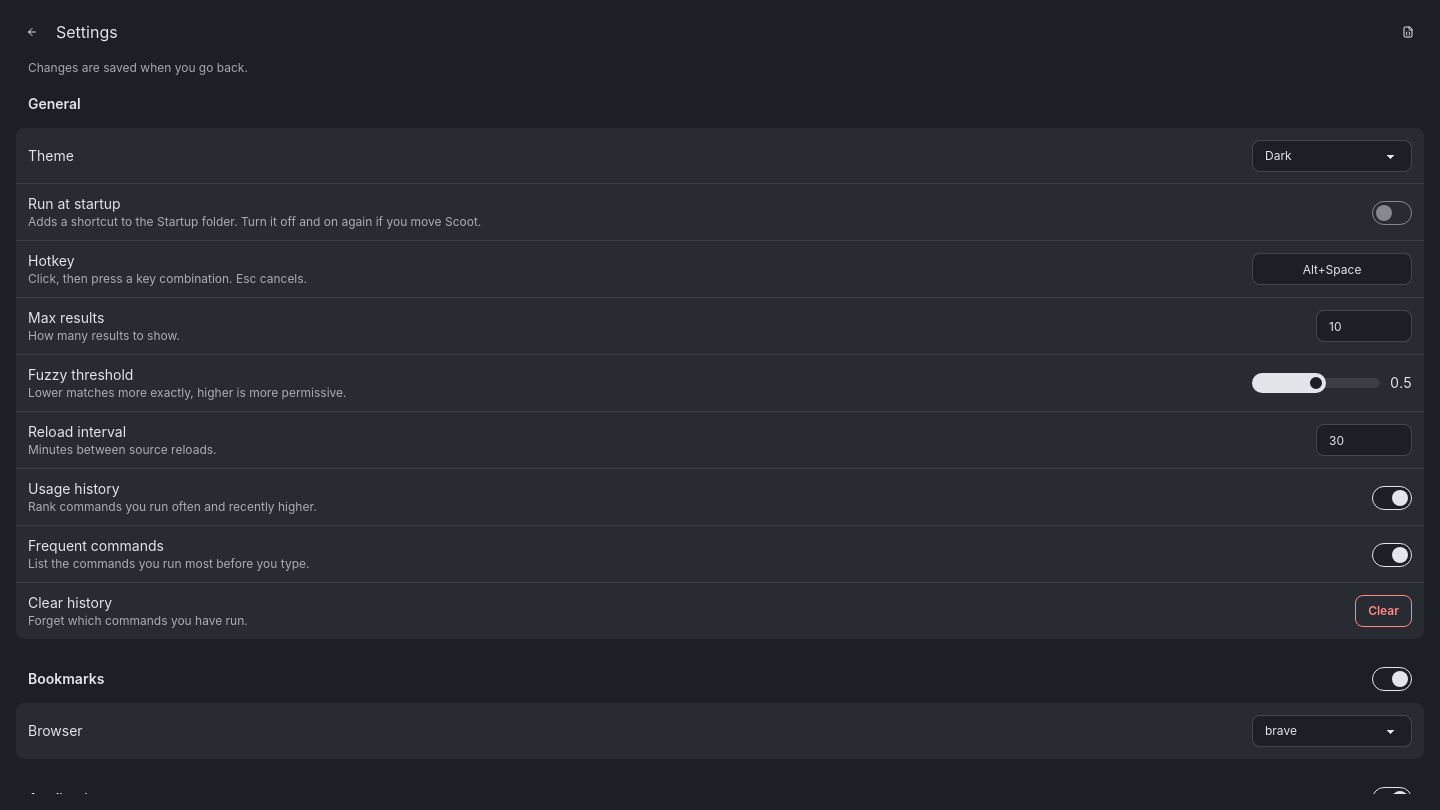
Scenario: SettingsScreen open settings.json › does not open the file while the edits cannot be saved
The image size is (1440, 810).
Select "Light" in the dropdown labelled "Theme": (1332, 156) x1=1252 y1=140 x2=1412 y2=172
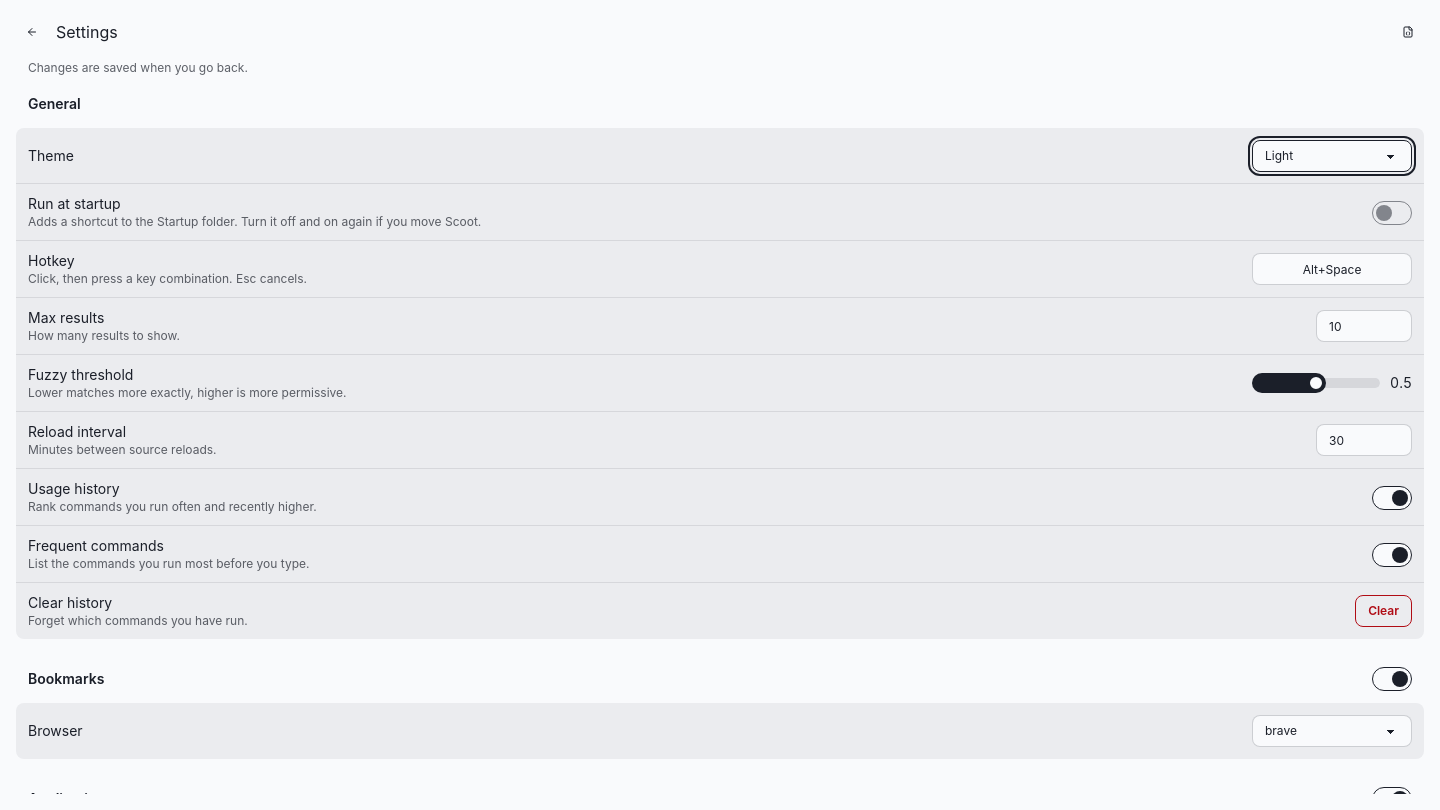
Click the button named "Open settings.json": (1408, 32) x1=1392 y1=16 x2=1424 y2=48
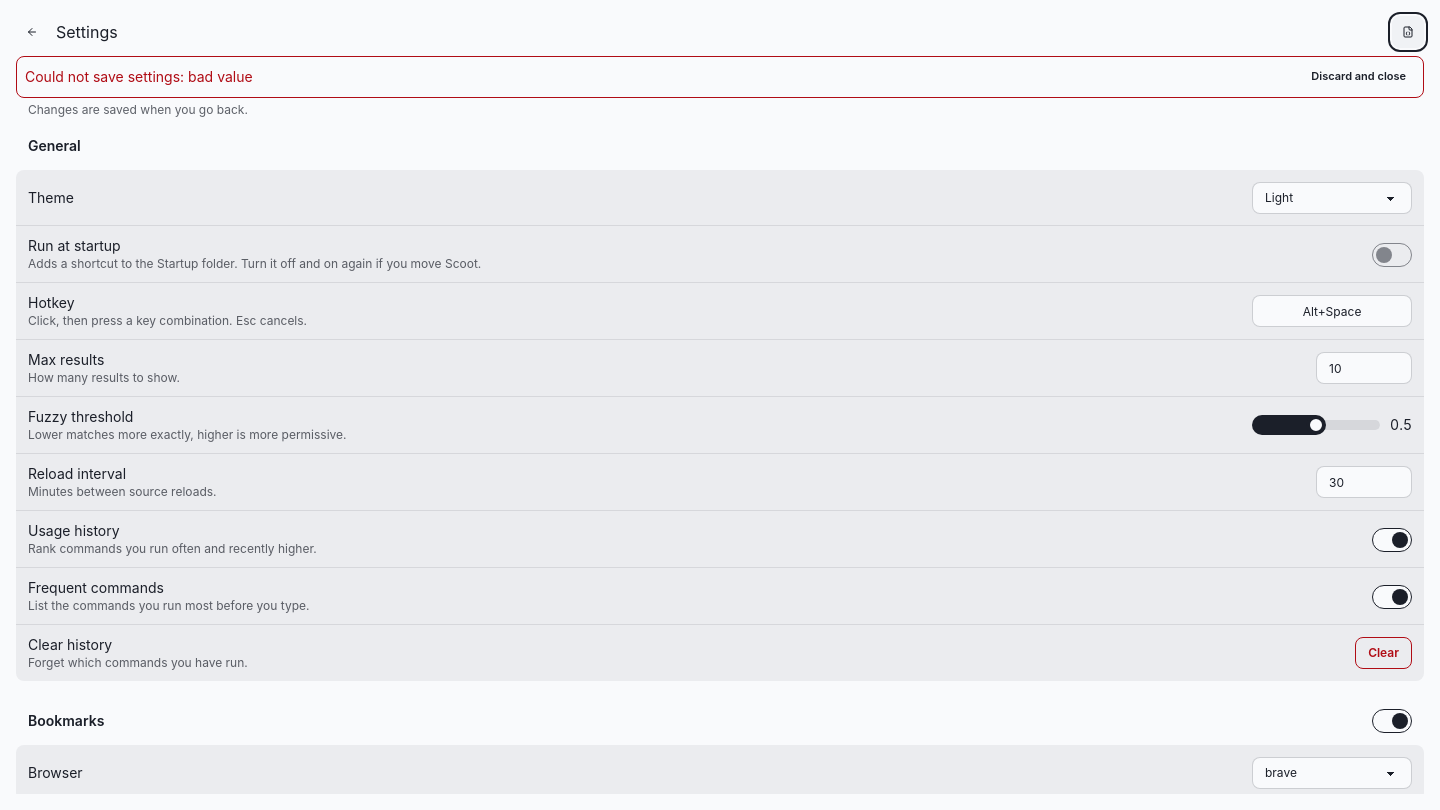
Now the message shows "Could not save settings", box x1=25 y1=68 x2=188 y2=85
